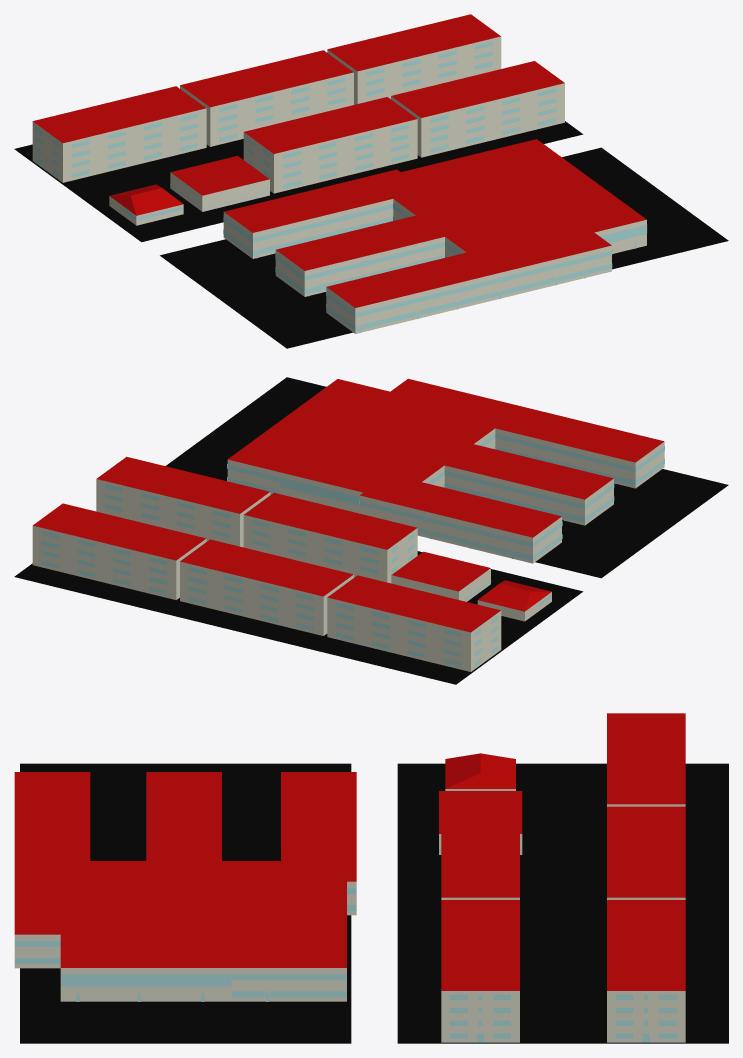
The picture shows the model from 3 angles, top to bottom: view 1: azimuth 30°, elevation 25°; view 2: azimuth 150°, elevation 25°; view 3: azimuth 270°, elevation 25°; orthographic projection. The views are drawn at different scales.
Visible parts, largest first — view 1: Roofs, Walls, Ground, Windows; view 2: Roofs, Walls, Ground, Windows; view 3: Roofs, Ground, Walls, Windows.
Part boxes in pixels (left/top/right/bottom): Roofs: left=33, top=14, right=646, bottom=307; Walls: left=32, top=36, right=646, bottom=333; Ground: left=14, top=121, right=728, bottom=348; Windows: left=35, top=41, right=647, bottom=333; Roofs: left=33, top=378, right=663, bottom=632; Walls: left=32, top=428, right=664, bottom=671; Ground: left=14, top=377, right=728, bottom=684; Windows: left=41, top=433, right=664, bottom=666; Roofs: left=14, top=713, right=685, bottom=990; Ground: left=20, top=763, right=728, bottom=1043; Walls: left=14, top=789, right=685, bottom=1042; Windows: left=15, top=849, right=676, bottom=1042.
Size of the model in its own units: 142 by 12.19 by 154.
